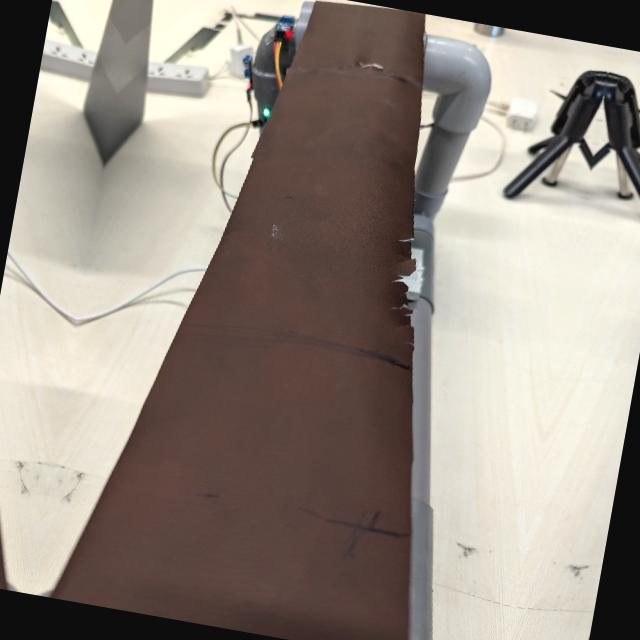edge_damage: (366, 222, 438, 370)
joint_damage: (338, 45, 409, 90)
